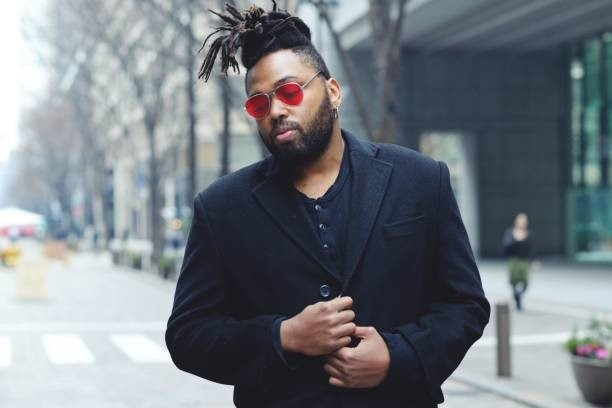face_no_mask: (241, 36, 340, 167)
